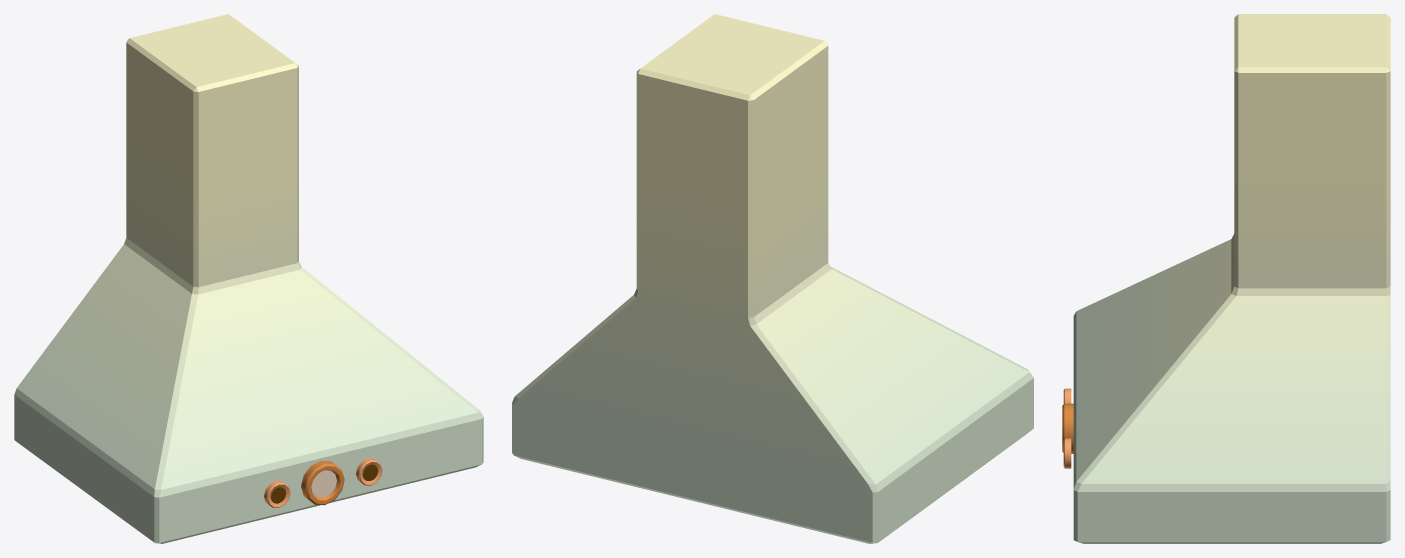
File: Kitchen_hood_03.fbx
The picture shows the model from 3 angles, left to right: view 1: azimuth 30°, elevation 25°; view 2: azimuth 150°, elevation 25°; view 3: azimuth 270°, elevation 25°; orthographic projection. The views are drawn at different scales.
Visible parts, largest first — view 1: Kitchen_hood_03; view 2: Kitchen_hood_03; view 3: Kitchen_hood_03.
Boxes of the visible parts, x1=… form: Kitchen_hood_03: x1=14, y1=14, x2=483, y2=543; Kitchen_hood_03: x1=512, y1=14, x2=1033, y2=543; Kitchen_hood_03: x1=1062, y1=14, x2=1390, y2=543.
Size of the model in its own units: 200 by 156 by 219.
